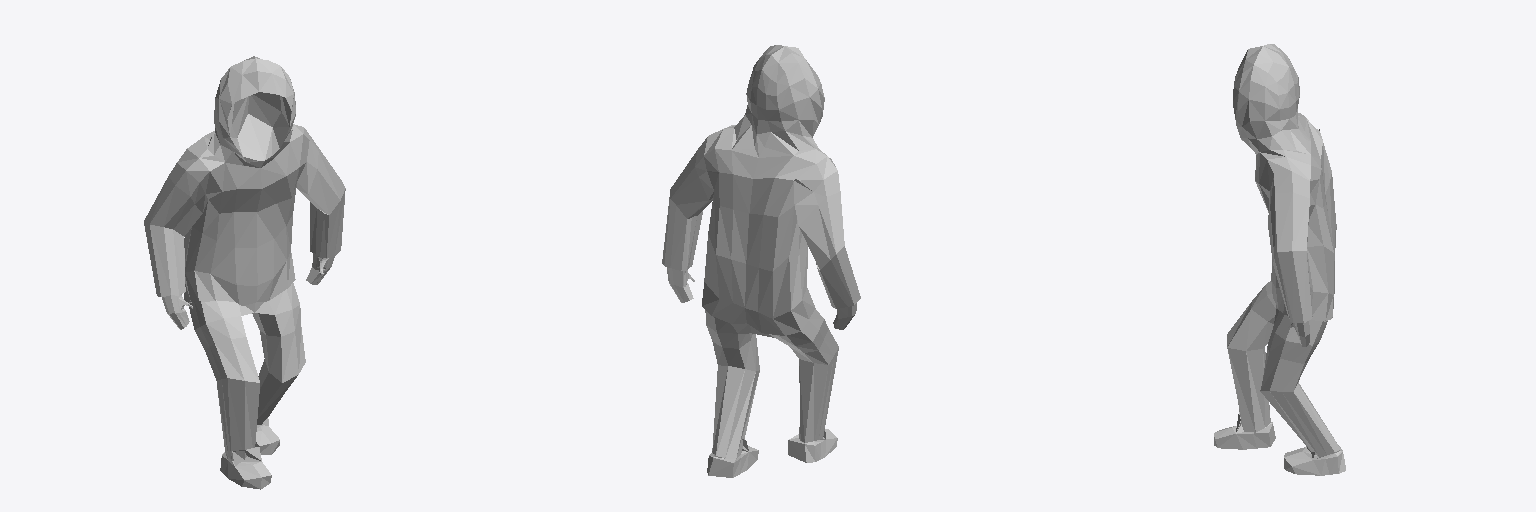
Rendered from Shadowmanv_000017.obj.
The picture shows the model from 3 angles: view 1: azimuth 30°, elevation 25°; view 2: azimuth 150°, elevation 25°; view 3: azimuth 270°, elevation 25°; orthographic projection.
Parts seen in each view (by area): view 1: Cube.000; view 2: Cube.000; view 3: Cube.000.
Boxes of the visible parts, box(x1,y1,x2,y2) form: Cube.000: box(144, 56, 345, 489); Cube.000: box(662, 45, 860, 477); Cube.000: box(1214, 44, 1345, 475).
Bounding box in the file's own units: 5.4 × 11.31 × 3.31.